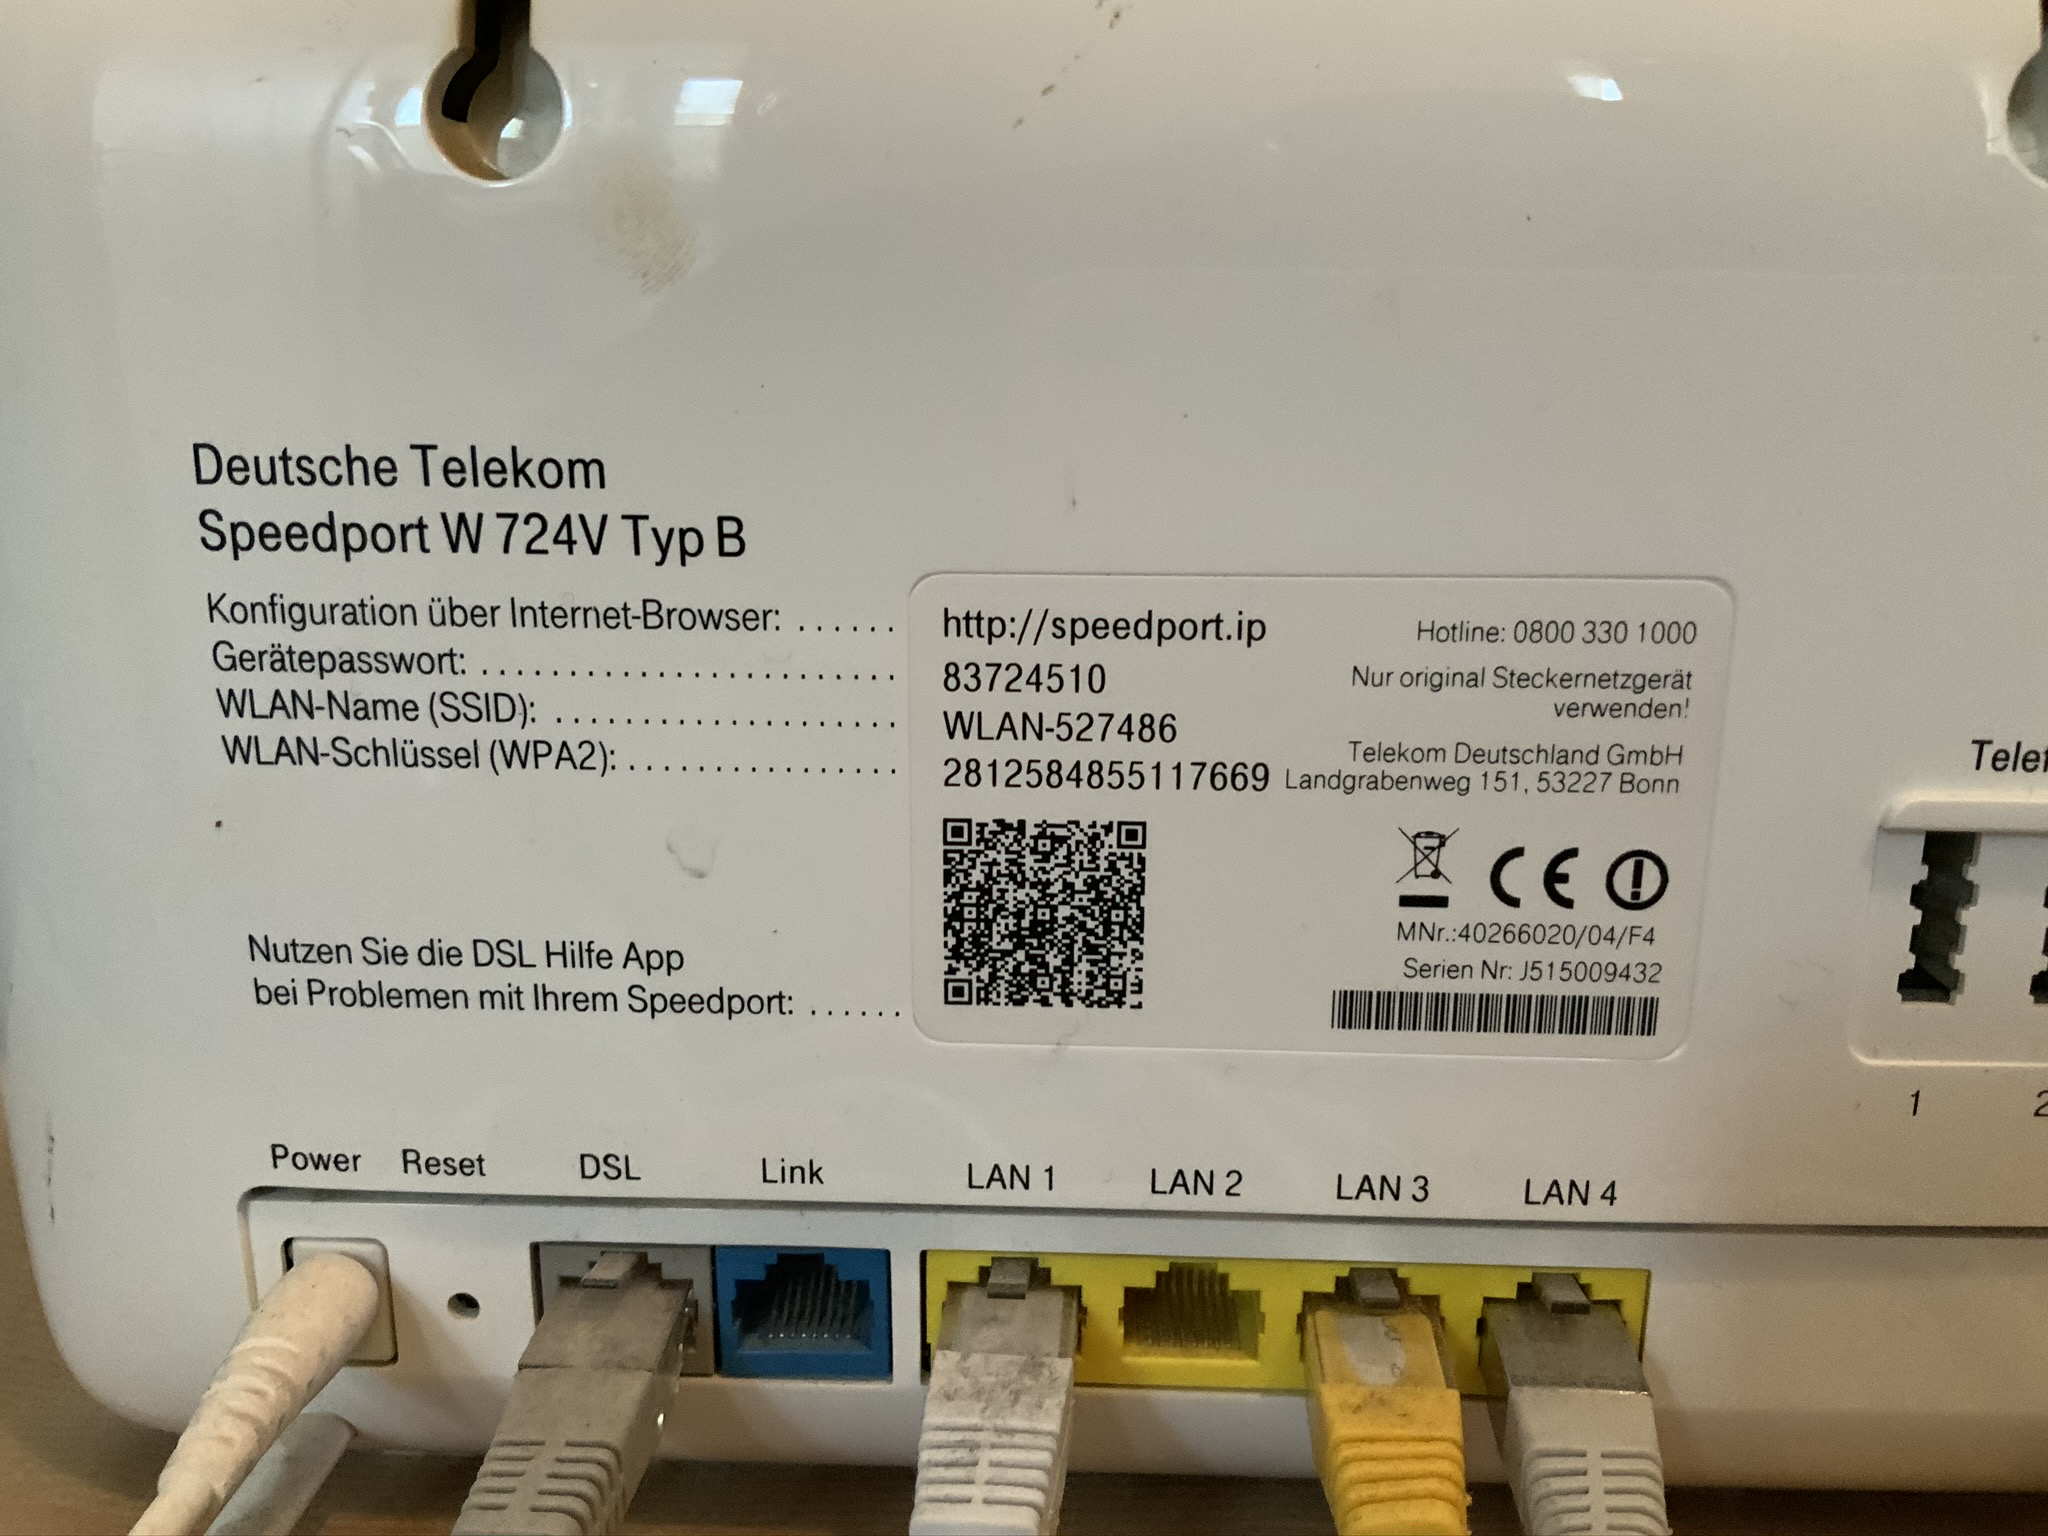router: (6, 3, 2033, 1536)
